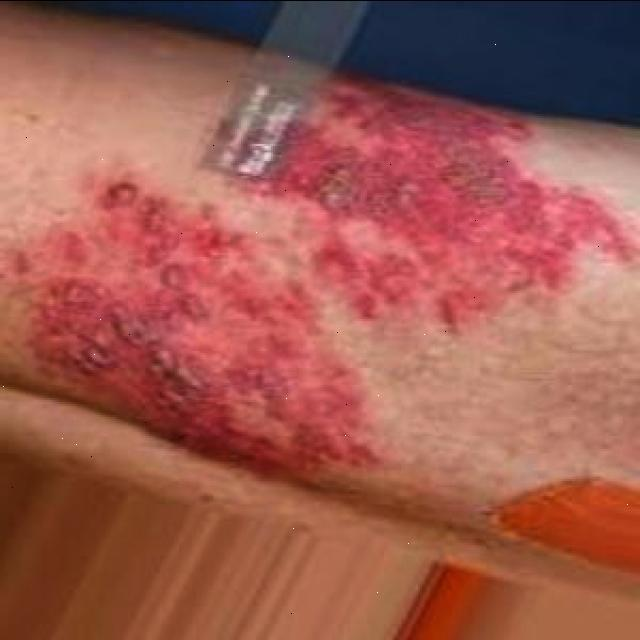Shingles: (225, 49, 632, 337), (9, 180, 378, 483)
